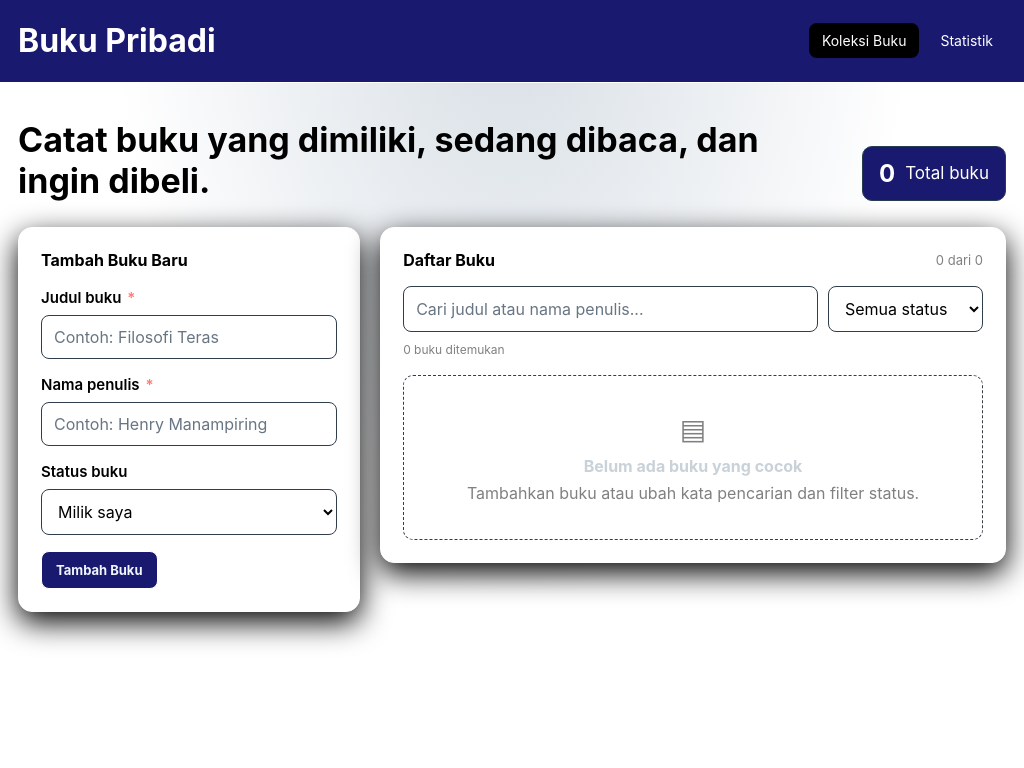
Aplikasi Manajemen Buku Pribadi › memvalidasi judul dan penulis wajib diisi
The image size is (1024, 768).
What coordinates should you click on to do the following:
click the button "Tambah Buku"
I would click on:
 (99, 570)
Its box is [41,551,158,589].
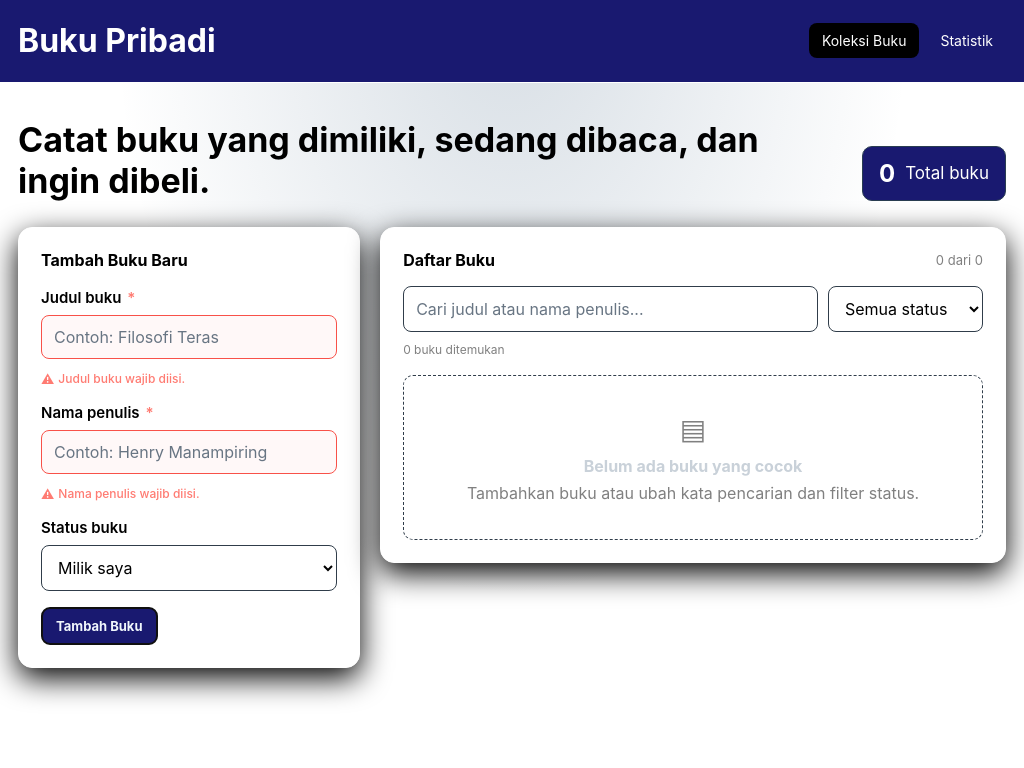
Expected: the text "Judul buku wajib diisi." is shown, [58,371,185,386]
Expected: the text "Nama penulis wajib diisi." is shown, [58,486,200,501]
